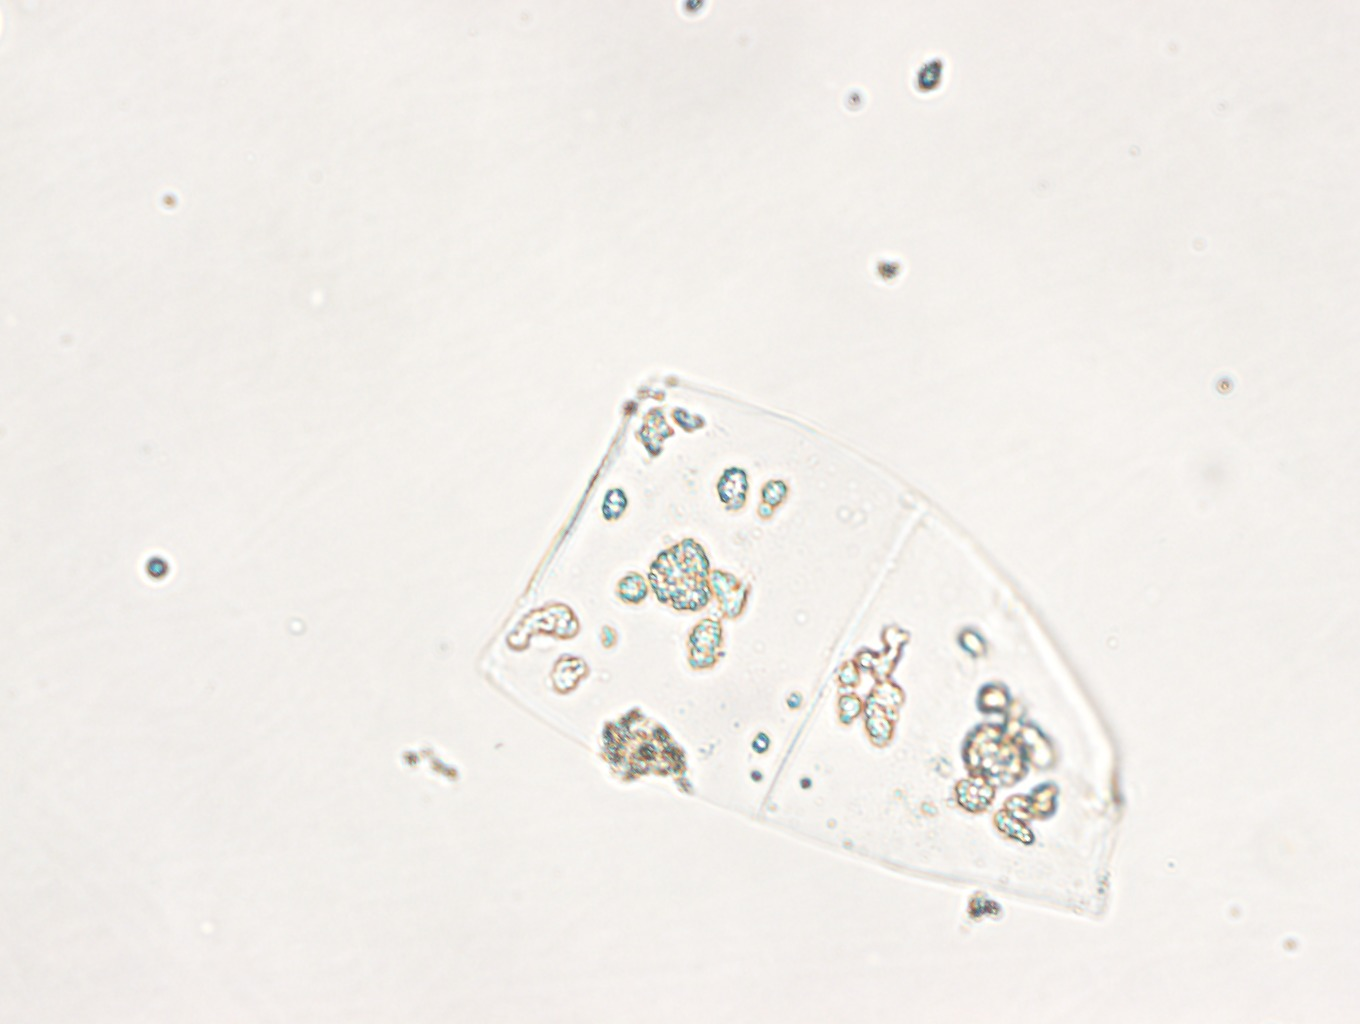helicotheca: (469, 373, 1122, 923)
